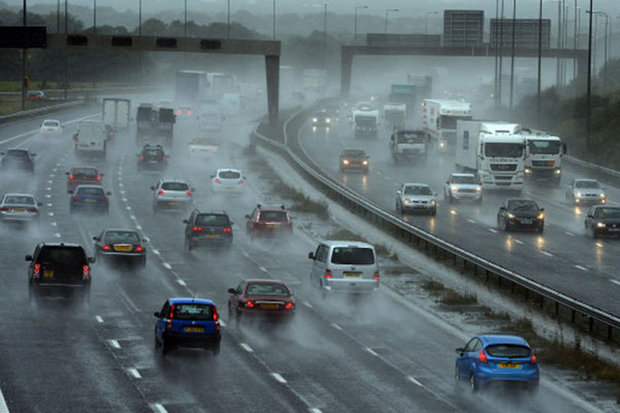car: (454, 333, 539, 391), (224, 277, 296, 334), (153, 297, 221, 352), (310, 239, 380, 292), (25, 242, 91, 287), (95, 227, 146, 265), (186, 211, 234, 250), (496, 197, 545, 232), (395, 181, 436, 214), (245, 205, 291, 233), (582, 204, 618, 239), (73, 120, 108, 156), (444, 172, 482, 202), (568, 178, 606, 206), (65, 165, 103, 193), (153, 179, 192, 206), (0, 192, 39, 219), (66, 173, 105, 200), (69, 184, 109, 210), (210, 167, 245, 192), (185, 136, 220, 160), (0, 148, 34, 172), (136, 143, 167, 169), (338, 148, 370, 171), (39, 118, 62, 137), (173, 103, 195, 121), (311, 110, 332, 126), (25, 87, 46, 101)
truck: (456, 118, 522, 192), (523, 125, 565, 184), (421, 92, 457, 155), (137, 102, 174, 148), (390, 127, 430, 169), (211, 70, 235, 115), (390, 84, 418, 121), (351, 104, 378, 142), (105, 97, 131, 134), (179, 70, 206, 105), (304, 68, 331, 97), (199, 107, 223, 137), (383, 105, 404, 133)
